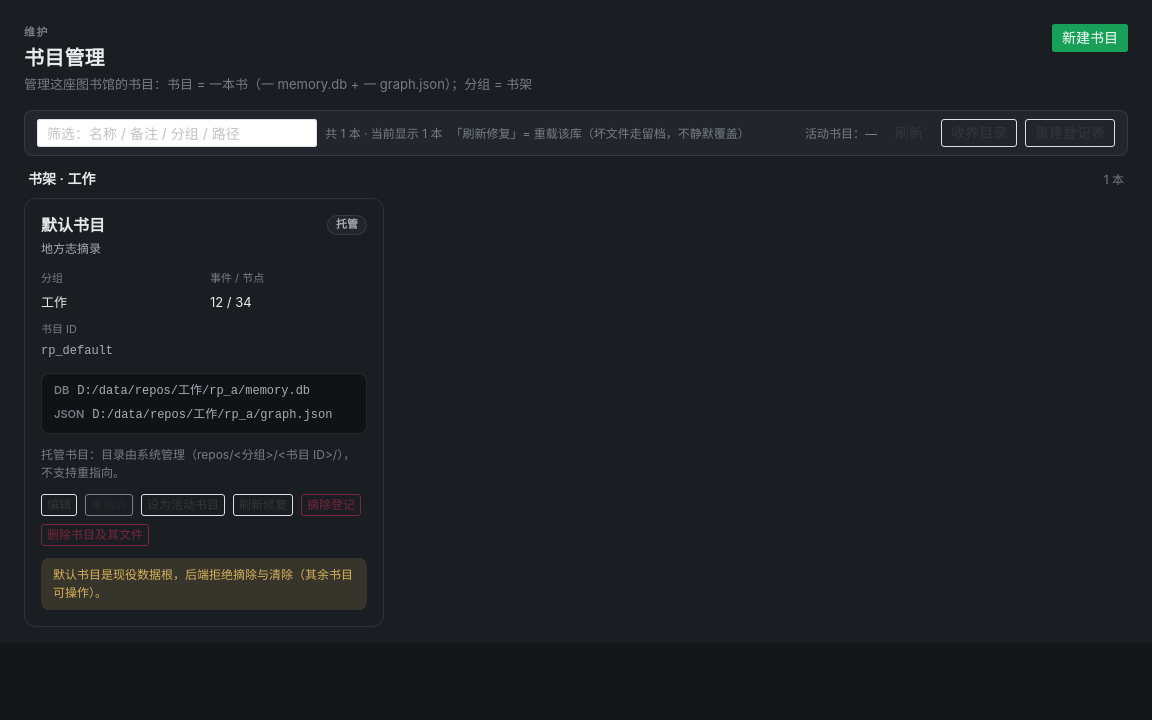
Test: ReposPage（书目管理） › 重建登记表走二次确认，并说明「不删除任何磁盘数据文件」
Click the button "重建登记表": (1070, 133) [1025,119,1115,147]
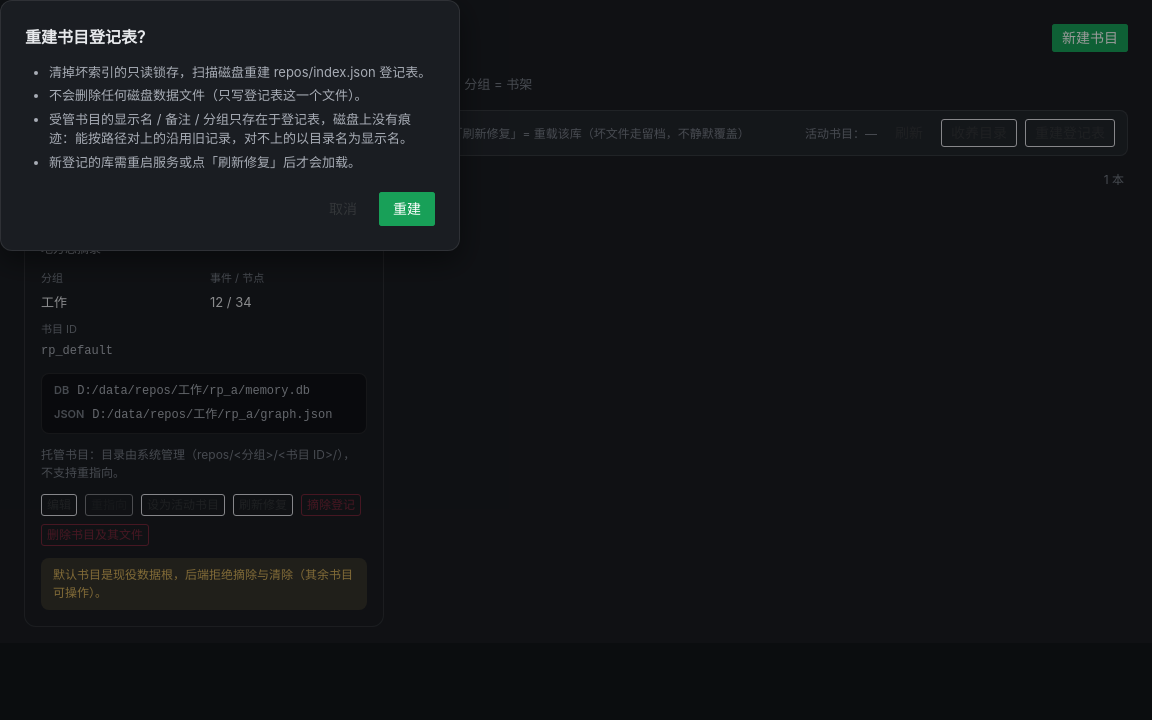
Result: the text "重建书目登记表？" is shown at [25,27,153,47]
Result: the text "不会删除任何磁盘数据文件" is shown at [49,87,368,103]
